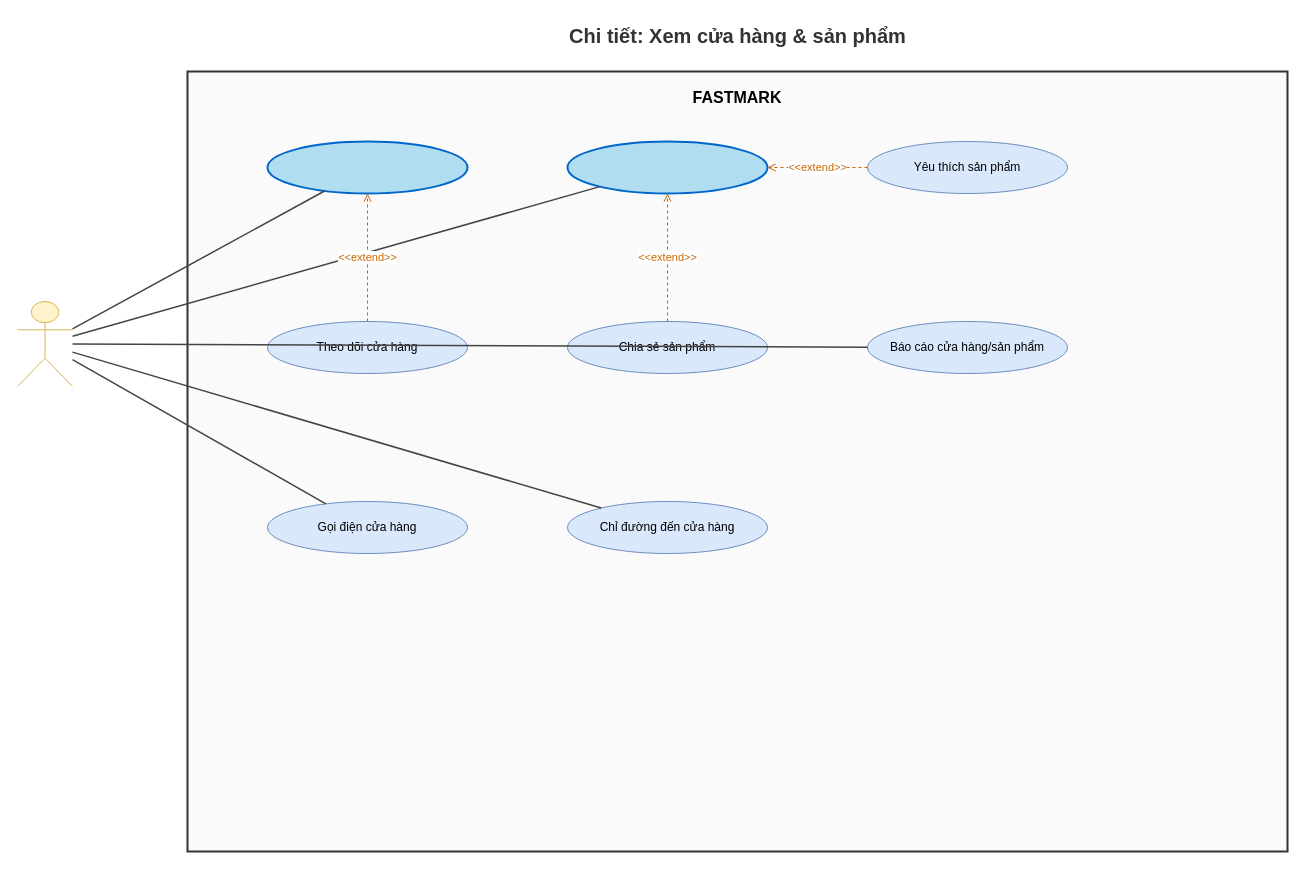
Some shapes in this 1306 by 869 pixel diagram are drawn without their labels. Each missing label, with the centre of its shape:
"User" belongs at point 44,343.
"Xem chi tiết cửa hàng" belongs at point 367,167.
"Xem chi tiết sản phẩm" belongs at point 667,167.
